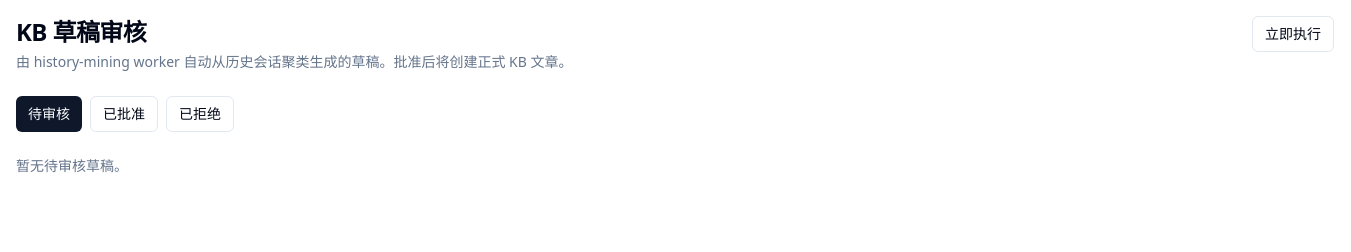
AdminKbDraftsPage › clicking "立即执行" POSTs to run-mining and shows a success banner
Click the button with test id "run-mining-button": [1293, 34] box [1252,16,1334,52]
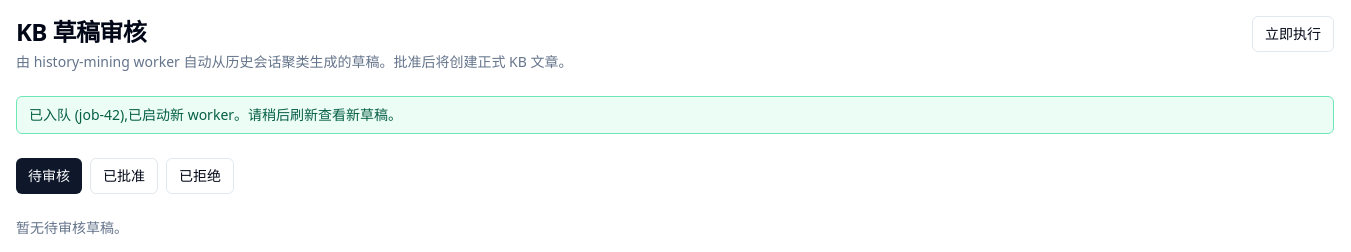
Result: the message with test id "run-mining-banner-ok" shows "job-42" at [29,105,402,124]
